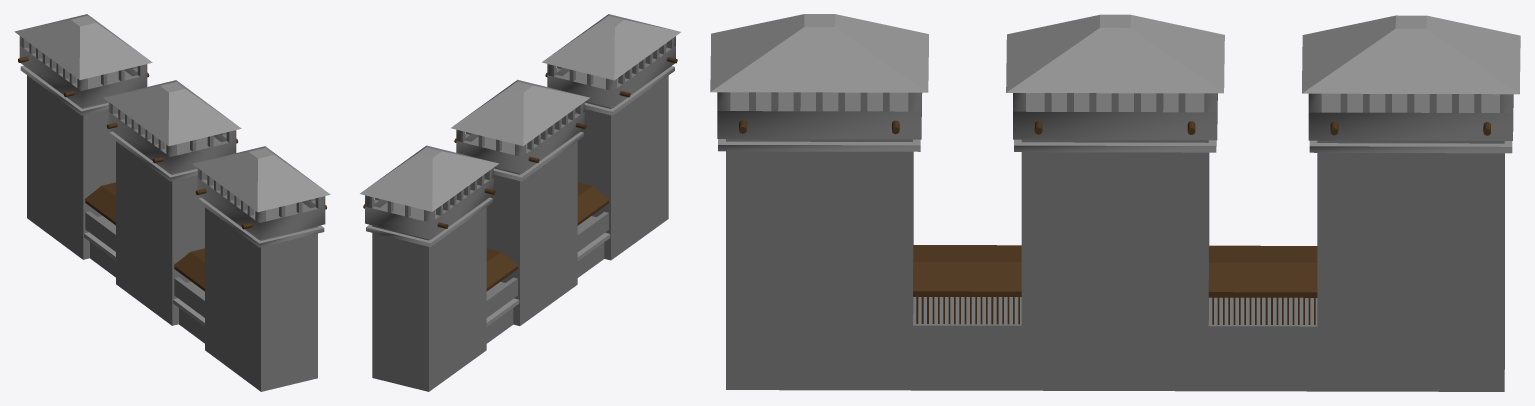
File: Medieval Walls(1).glb
3 renders of one model, left to right at view 1: azimuth 30°, elevation 25°; view 2: azimuth 150°, elevation 25°; view 3: azimuth 270°, elevation 25°, orthographic. The views are drawn at different scales.
Parts seen in each view (by area): view 1: id0; view 2: id0; view 3: id0.
Boxes of the visible parts, <box> form: id0: <box>14,14,330,391</box>; id0: <box>360,14,680,391</box>; id0: <box>710,14,1520,391</box>.
Size of the model in its own units: 9.44 by 22.34 by 47.29.
